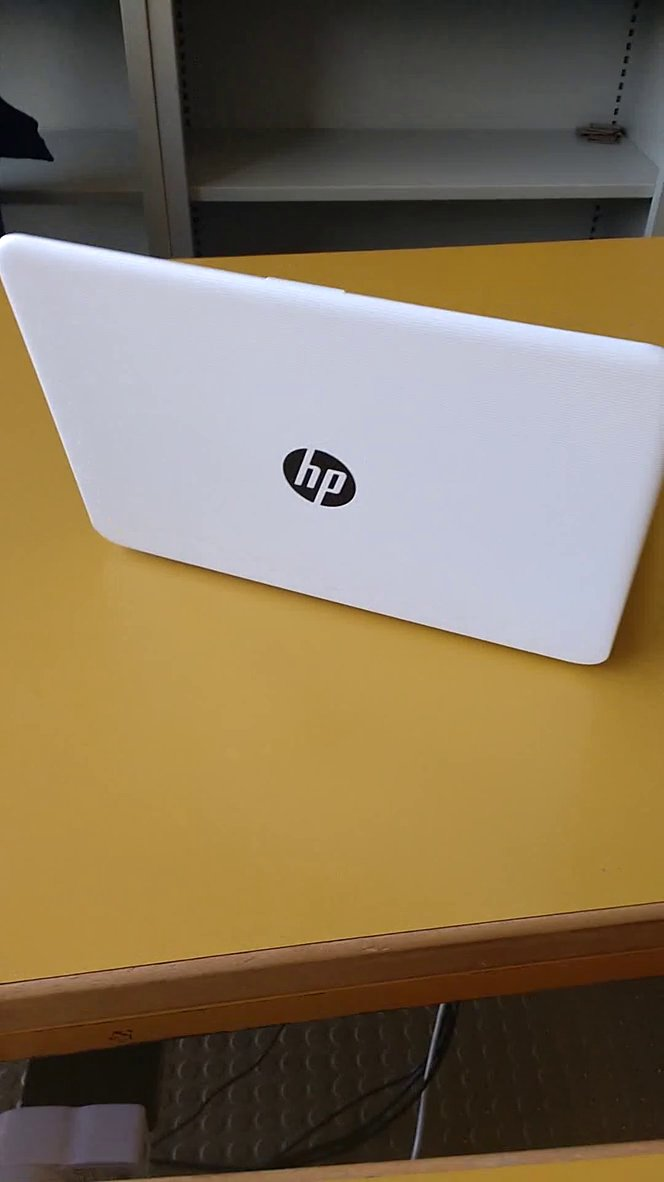laptop: (3, 216, 664, 683)
